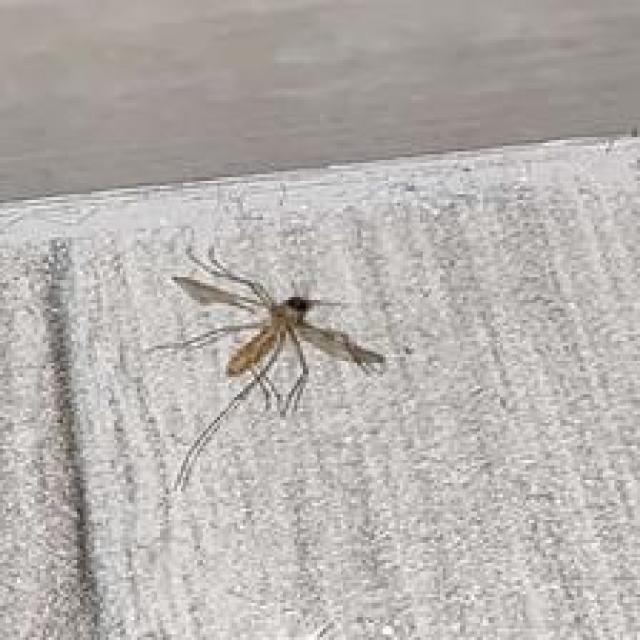Culex: (146, 243, 386, 494)
